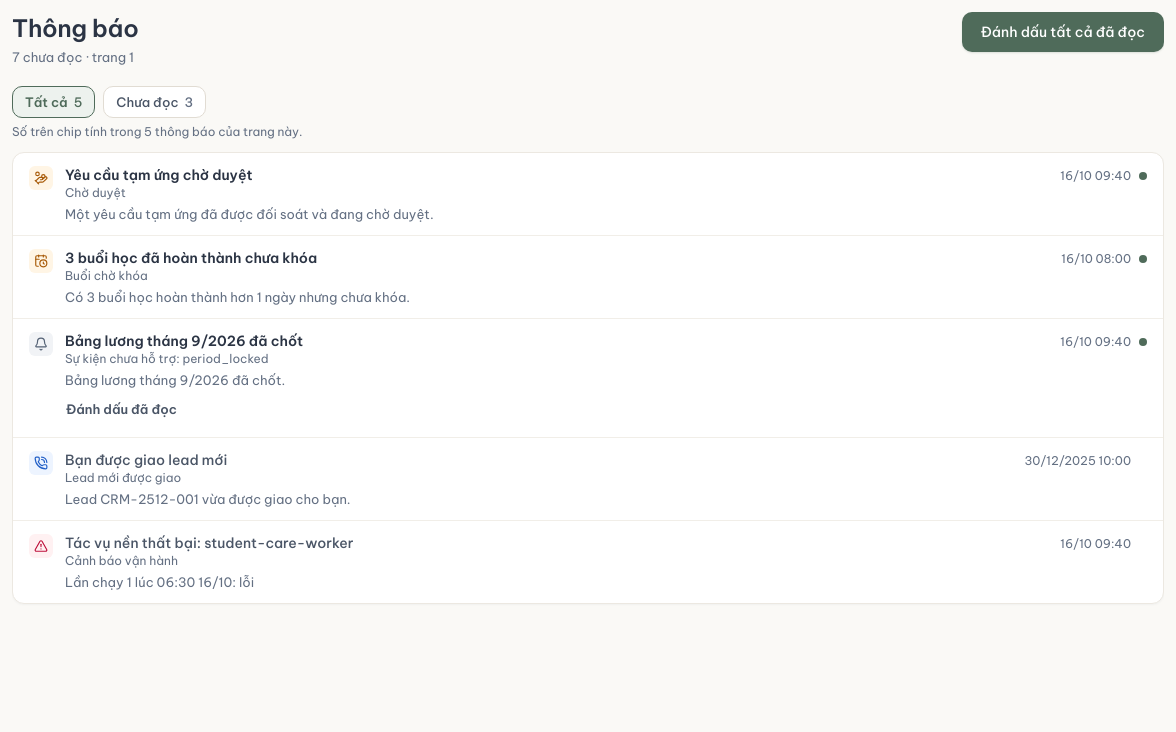
Test case: NotificationListPage (step 14d) › chips count the loaded page, default to Tất cả, say their scope and filter locally
Check: the text "Số trên chip tính trong 5 thông báo của trang này." is shown, box x1=12 y1=124 x2=302 y2=139
Check: the number of list items is 5, box x1=13 y1=153 x2=1163 y2=236; x1=13 y1=236 x2=1163 y2=319; x1=13 y1=319 x2=1163 y2=438; x1=13 y1=438 x2=1163 y2=521; x1=13 y1=521 x2=1163 y2=603
Click the button named "Chưa đọc3".
click(155, 102)  # box x1=103 y1=86 x2=206 y2=118
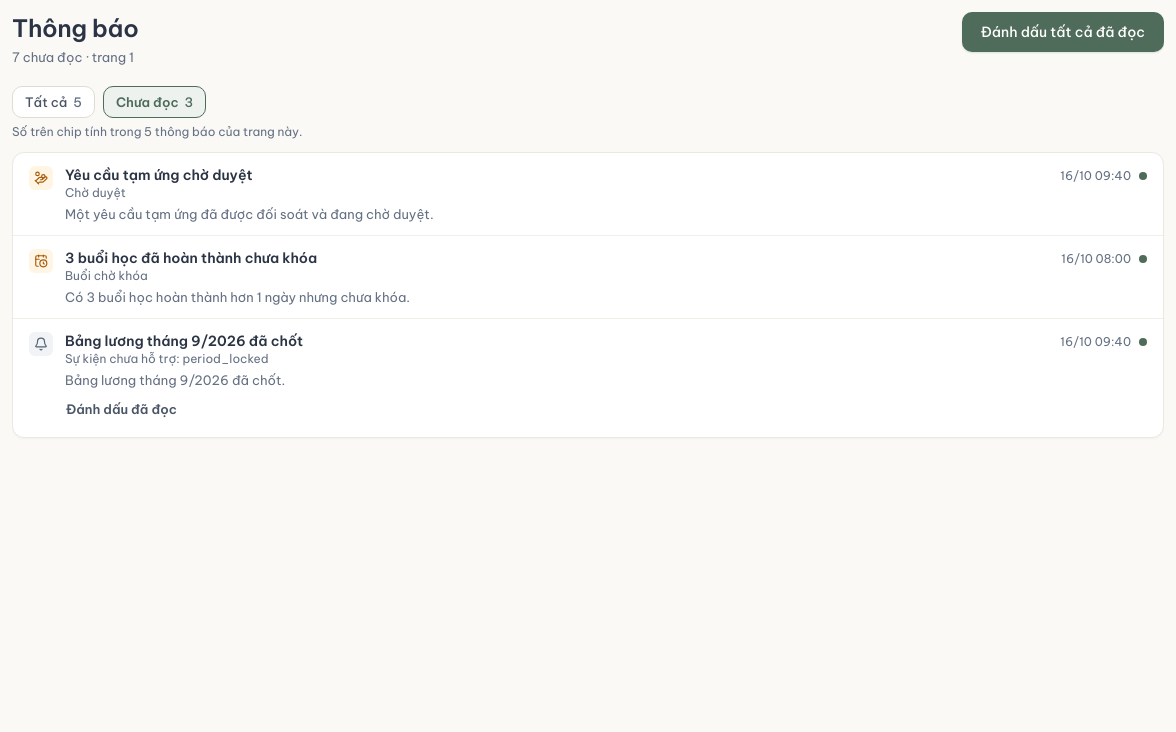
Check: the number of list items is 3, box x1=13 y1=153 x2=1163 y2=236; x1=13 y1=236 x2=1163 y2=319; x1=13 y1=319 x2=1163 y2=437
Check: the link "Bạn được giao lead mới" is gone
Click the button named "Tất cả5".
click(54, 102)  # box x1=12 y1=86 x2=95 y2=118
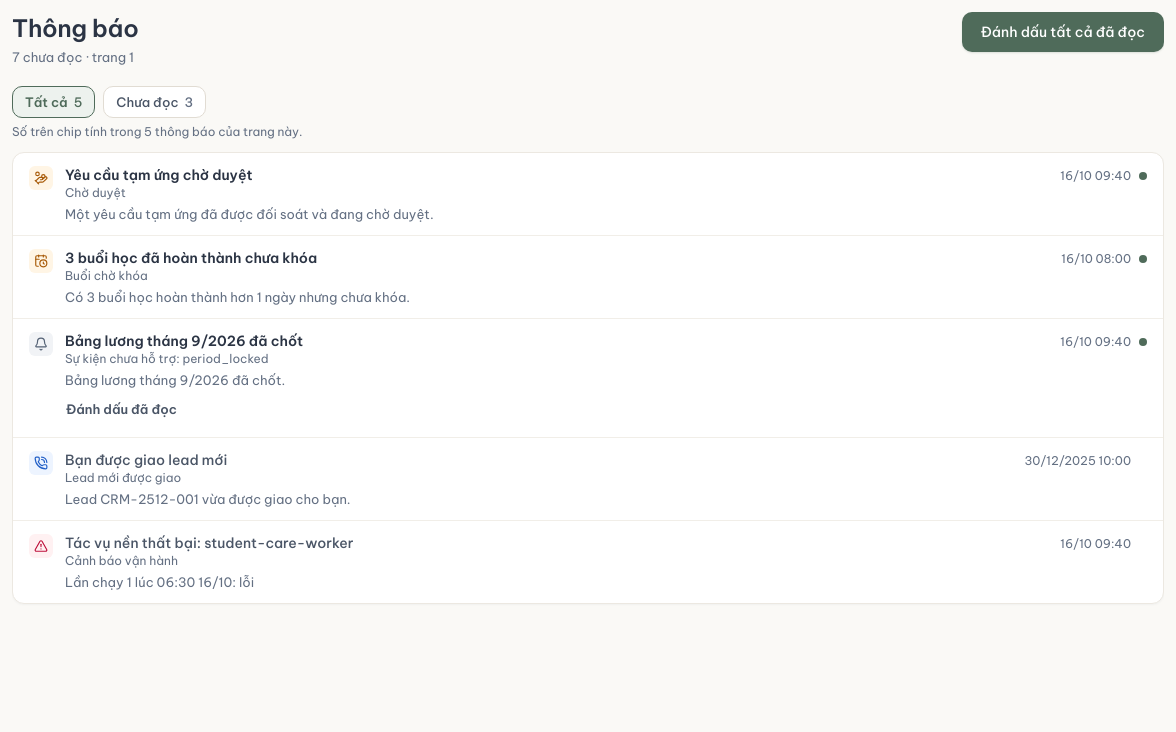
Check: the number of list items is 5, box x1=13 y1=153 x2=1163 y2=236; x1=13 y1=236 x2=1163 y2=319; x1=13 y1=319 x2=1163 y2=438; x1=13 y1=438 x2=1163 y2=521; x1=13 y1=521 x2=1163 y2=603
